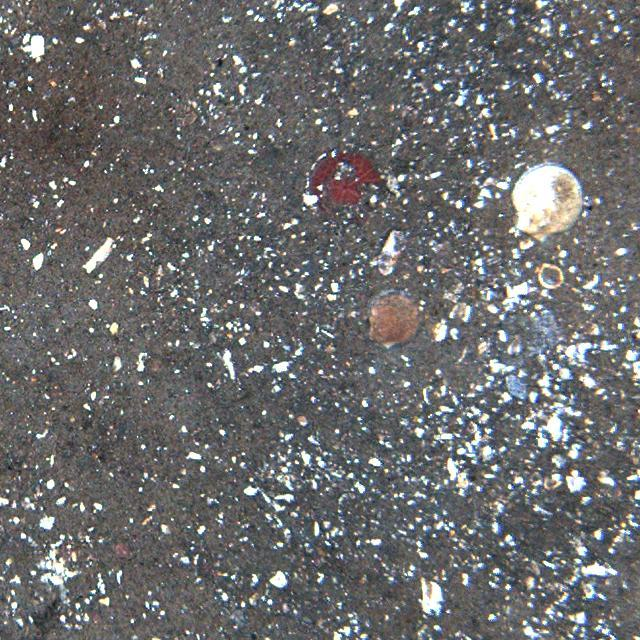scallop: (365, 290, 420, 346)
